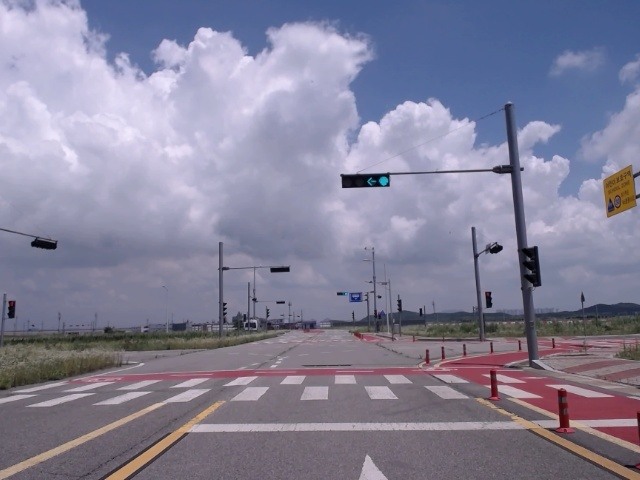all_green_4: (343, 172, 389, 186)
